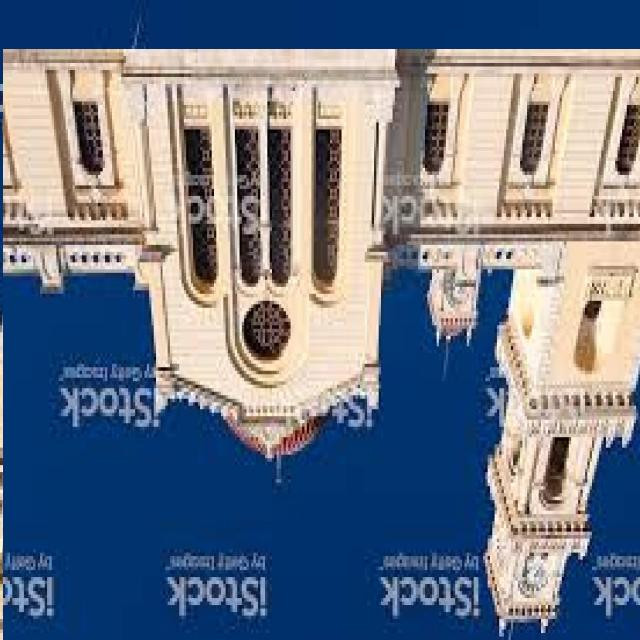Agios Minas: (4, 50, 640, 640)
